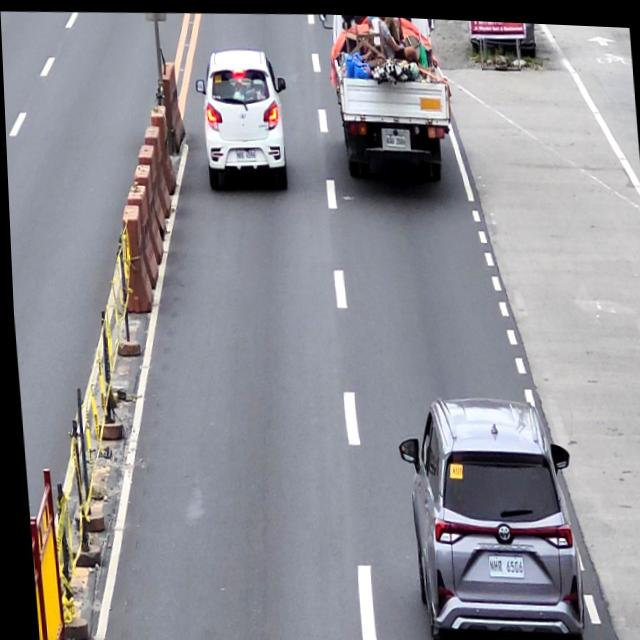Car: (391, 387, 582, 640), (193, 43, 291, 189)
License-Plate: (484, 548, 519, 575), (233, 144, 256, 160), (383, 129, 405, 144)
Tricycle: (321, 11, 453, 177)
